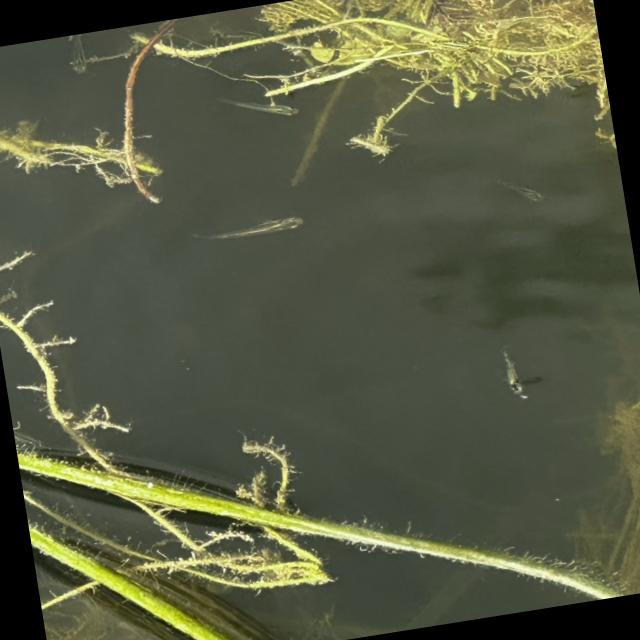Sivrisinek Baligi: (195, 208, 317, 250), (221, 81, 310, 132), (486, 342, 540, 410), (496, 170, 556, 208)
